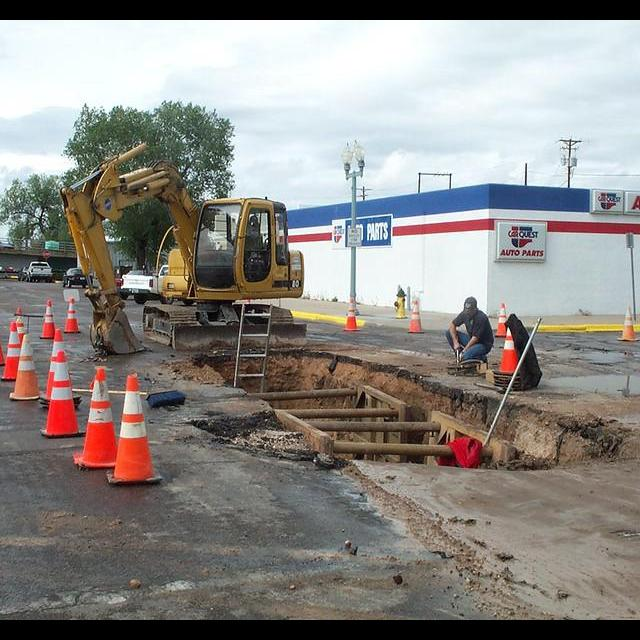Excavator: (60, 142, 307, 355)
Ladder: (230, 304, 273, 390)
NO-Hardhat: (464, 296, 477, 308)
NO-Safety Vest: (461, 314, 486, 344)
Person: (446, 294, 493, 364)
Safety Cone: (108, 373, 164, 486), (72, 366, 118, 467), (42, 353, 87, 438), (40, 329, 82, 407), (8, 336, 40, 401), (493, 327, 522, 387), (1, 321, 20, 380), (61, 298, 82, 335), (618, 307, 640, 342), (38, 301, 58, 339), (408, 298, 426, 334), (342, 298, 360, 332), (493, 303, 508, 338), (15, 308, 25, 341), (0, 312, 5, 367)
sedan: (62, 267, 92, 287), (17, 267, 29, 281), (0, 238, 14, 249)
truck: (121, 265, 173, 303), (114, 269, 150, 299), (28, 262, 53, 283)
